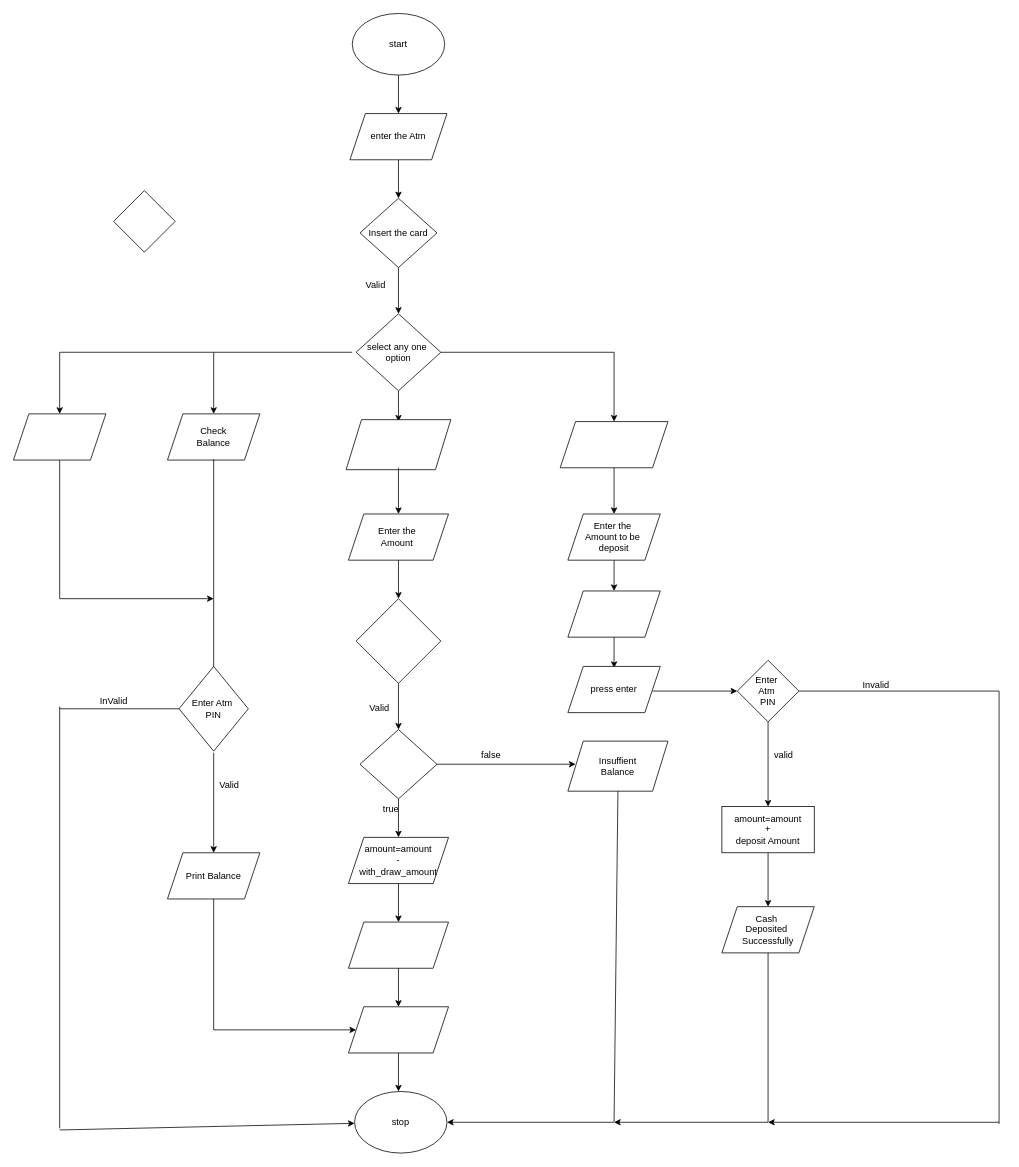
This 1019x1167 diagram has some shape labels left out. Here are the shapes that lost their labels. From the top down, the centre of each, then its label:
pixel 59 436: Mini Statement
pixel 398 444: With_Drawal
pixel 613 444: Deposit
pixel 613 613: Insert the Amount
pixel 398 640: Enter the Atm PIN
pixel 398 764: check the amount>0
pixel 398 944: please collect cash
pixel 398 1029: Thank you
